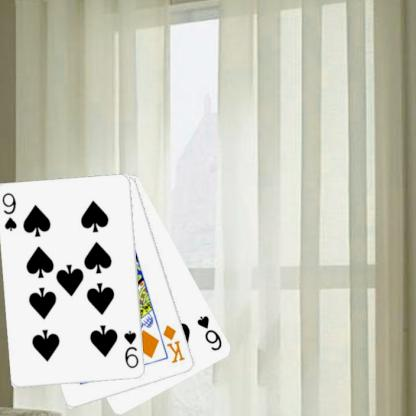6S: (194, 313, 224, 352)
9S: (122, 328, 140, 370), (0, 190, 18, 232)
KD: (160, 322, 187, 365)
